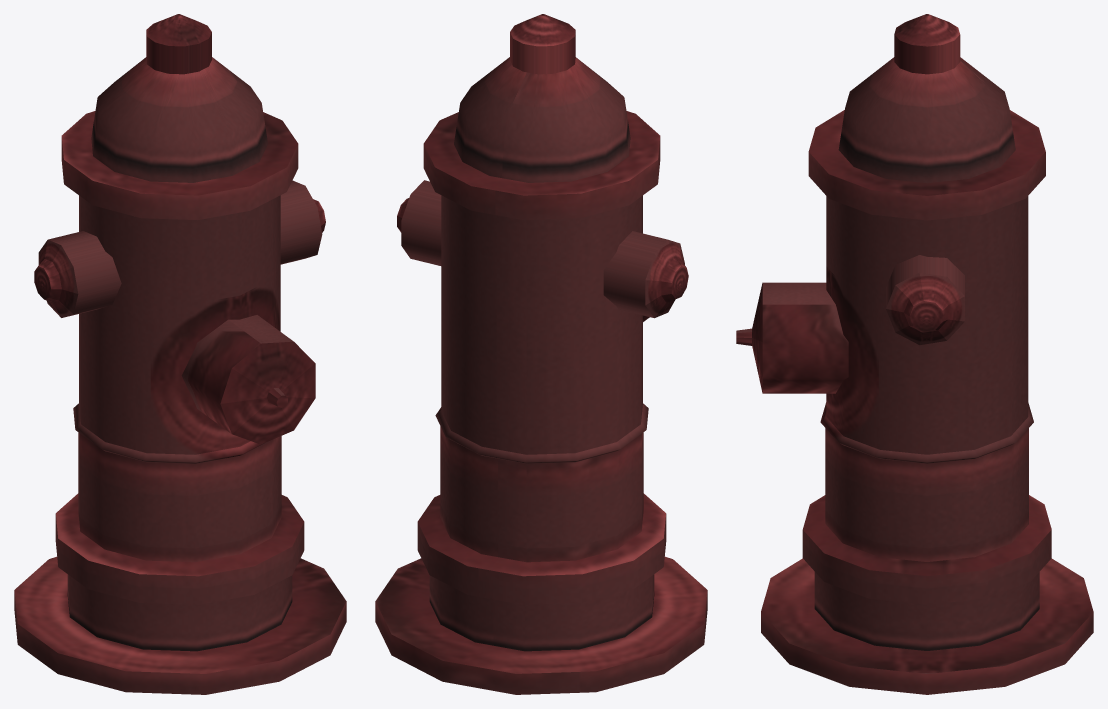
File: D_hydrant_01.FBX
3 views of the same model, side by side, from view 1: azimuth 30°, elevation 25°; view 2: azimuth 150°, elevation 25°; view 3: azimuth 270°, elevation 25° (orthographic).
Parts seen in each view (by area): view 1: D_hydrant_01; view 2: D_hydrant_01; view 3: D_hydrant_01.
Boxes of the visible parts, x1,y1,x2,y2 form: D_hydrant_01: [14, 14, 346, 694]; D_hydrant_01: [375, 14, 707, 694]; D_hydrant_01: [736, 14, 1093, 694].
Bounding box in the file's own units: 1.26 × 1.36 × 2.56.
1 material, 1 textured.
